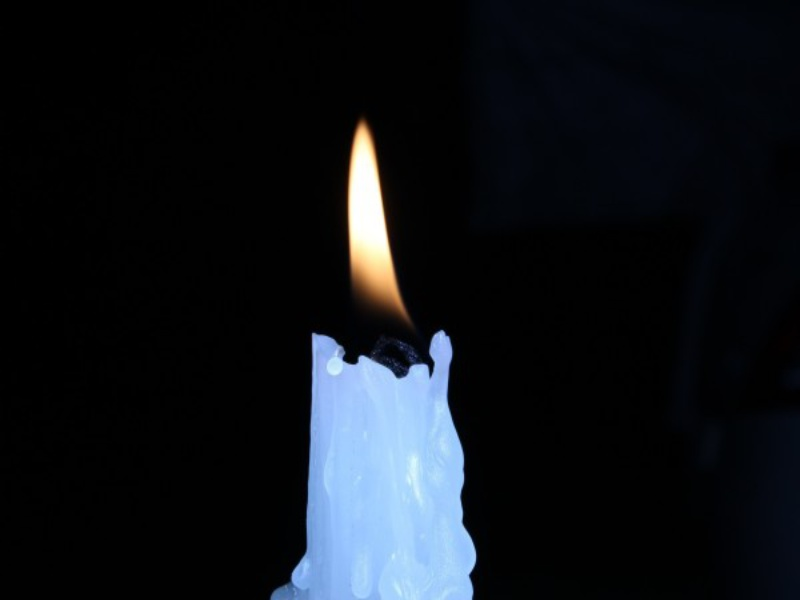fire: (349, 119, 406, 314)
